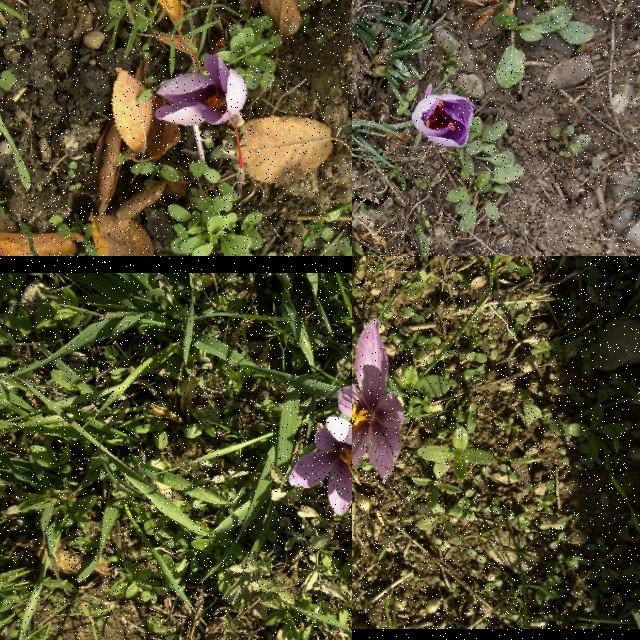flower: (154, 39, 248, 169), (352, 317, 407, 479), (290, 427, 352, 525), (412, 95, 473, 147)
